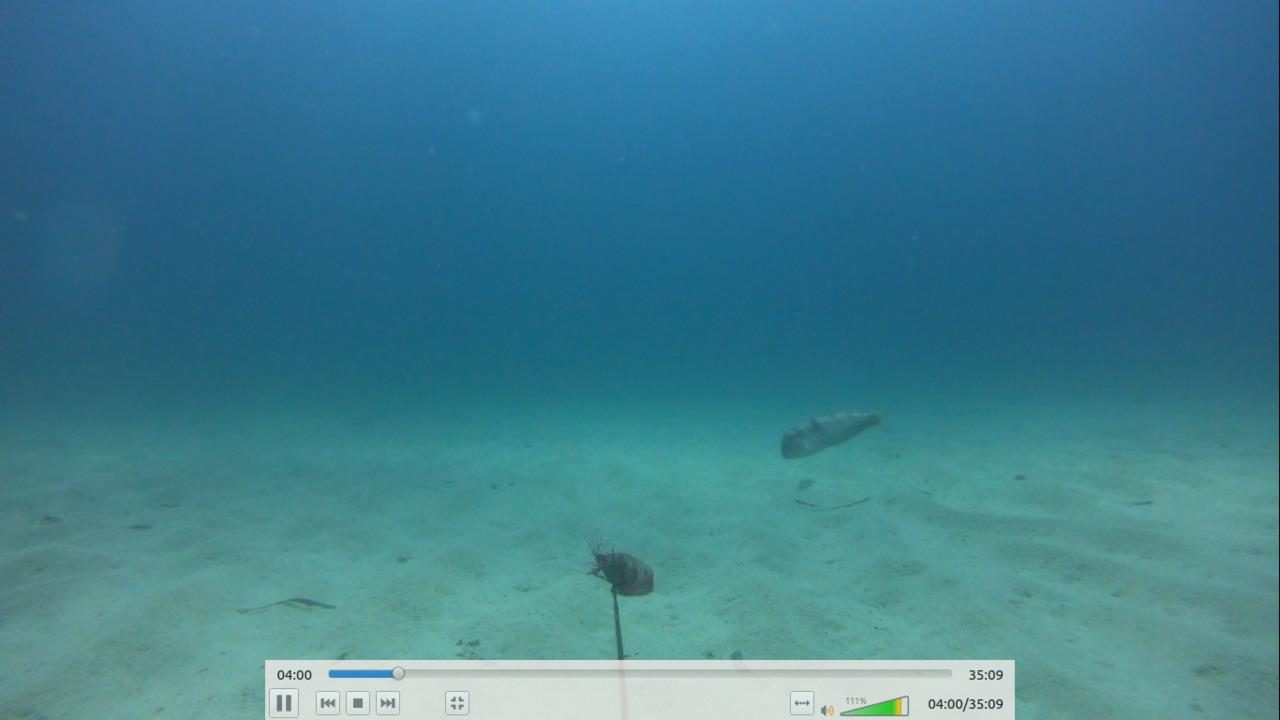raor: (773, 403, 890, 463)
